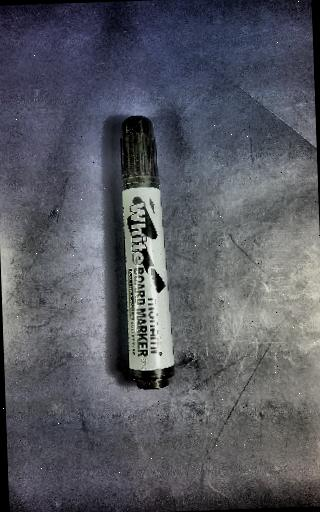marcador negro: (120, 116, 174, 389)
